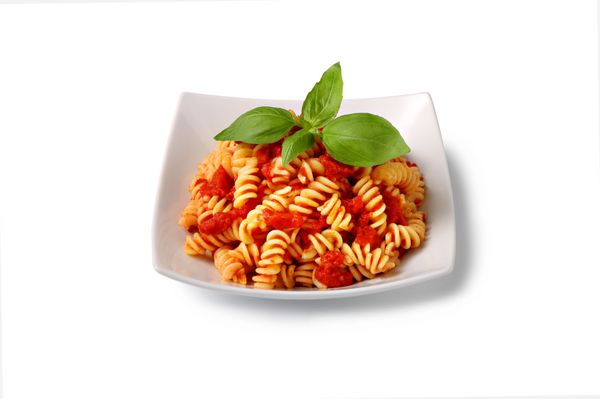sushi: (150, 68, 460, 305)
